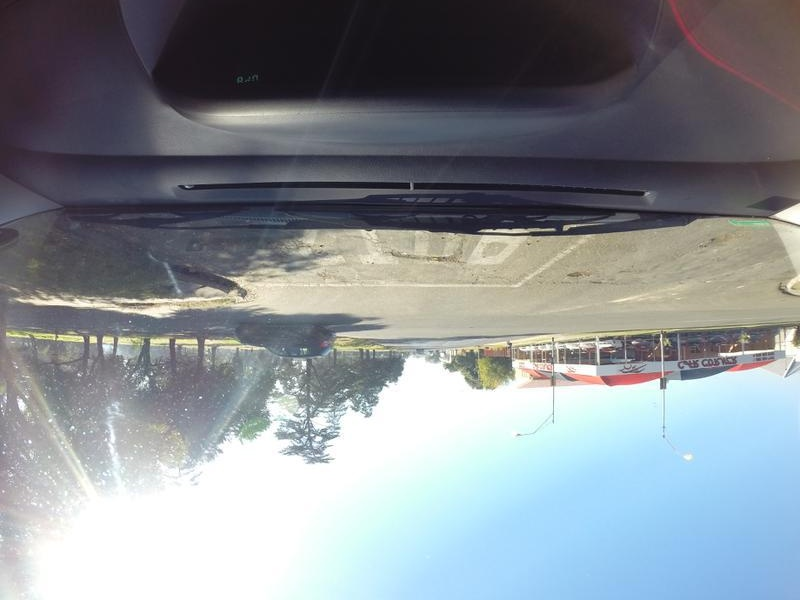pothole: (198, 231, 338, 254), (388, 246, 476, 269), (699, 227, 740, 255), (252, 268, 299, 285), (561, 265, 593, 288), (318, 271, 362, 285), (596, 268, 610, 291)
